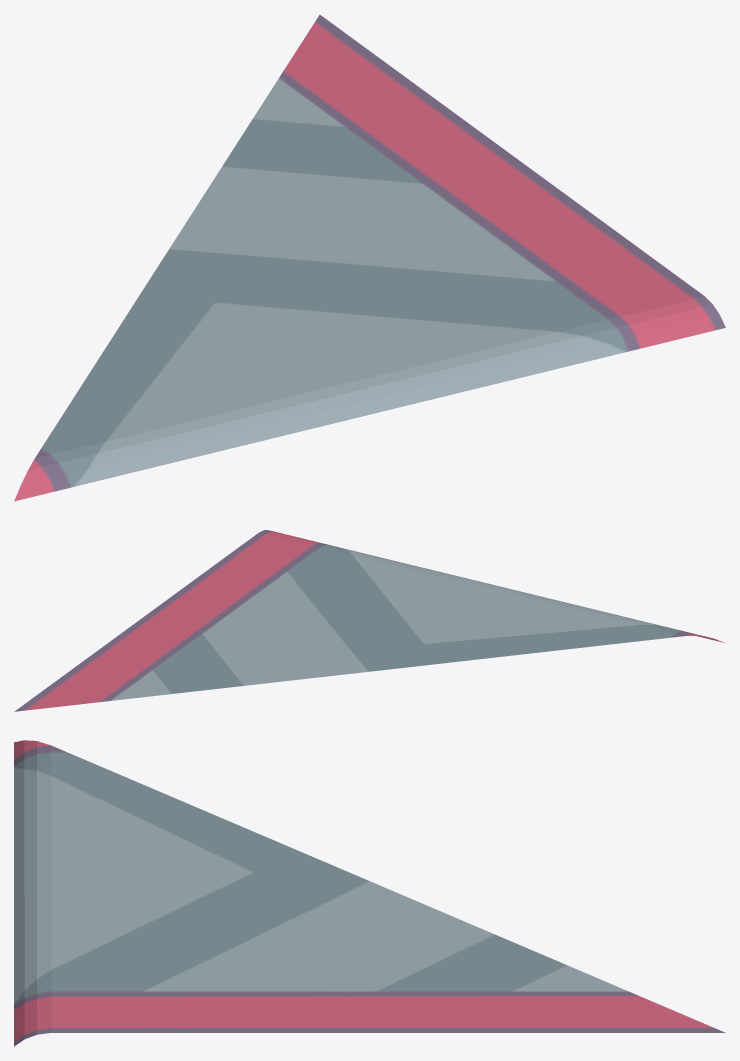
The model's file is beltAL.gltf.
3 views of the same model, one above another, from view 1: azimuth 30°, elevation 25°; view 2: azimuth 150°, elevation 25°; view 3: azimuth 270°, elevation 25° (orthographic). The views are drawn at different scales.
Visible parts, largest first — view 1: Plane.003; view 2: Plane.003; view 3: Plane.003.
Part boxes in pixels (bbox=[...]): Plane.003: bbox=[14, 14, 725, 501]; Plane.003: bbox=[14, 530, 724, 711]; Plane.003: bbox=[14, 740, 725, 1046].
Bounding box in the file's own units: 1.89 × 0.0428 × 1.87.
Materials: 1 (1 with a texture image).
